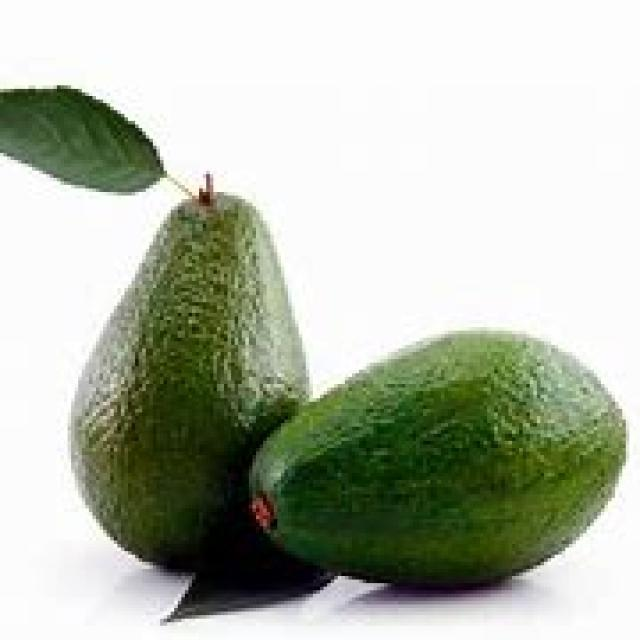avocado: (240, 328, 631, 590), (73, 188, 304, 580)
